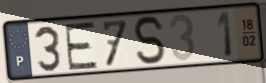1: (215, 10, 233, 61)
3: (168, 12, 199, 64), (32, 23, 63, 74)
7: (101, 17, 129, 68)
E: (62, 20, 100, 72)
S: (131, 14, 169, 67)
